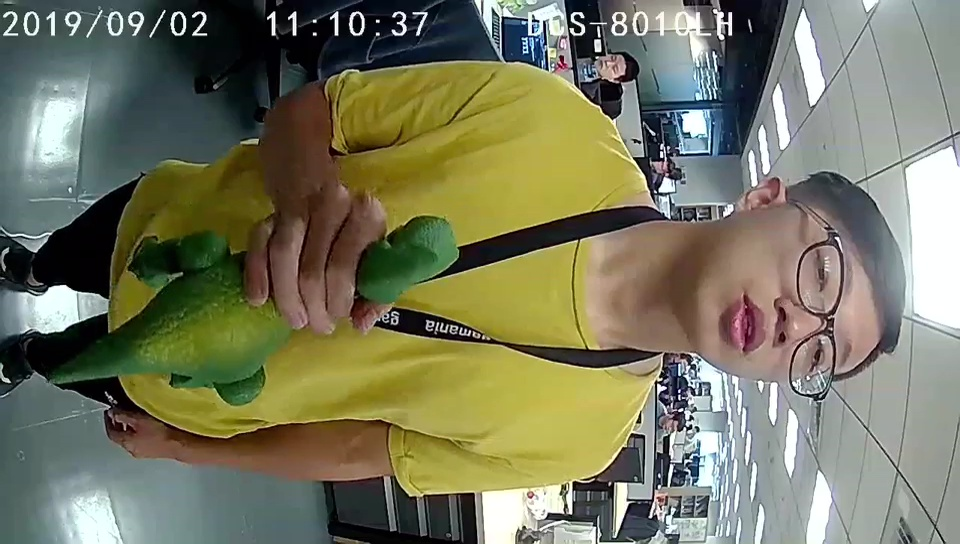rex: (159, 215, 460, 408)
